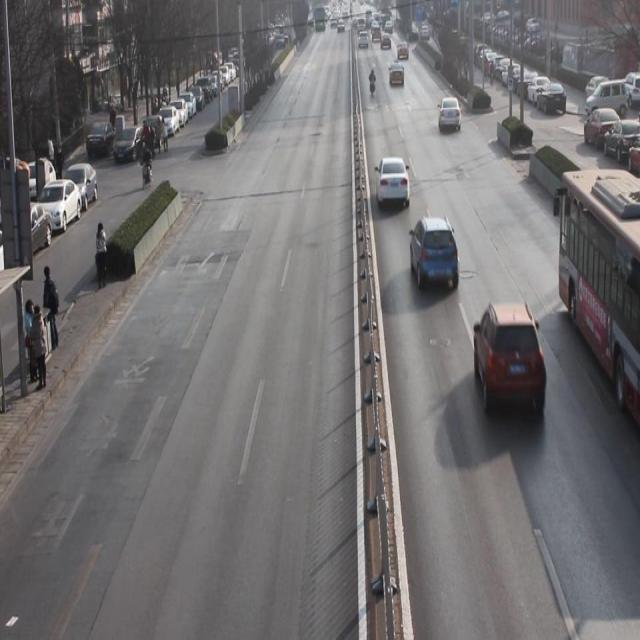car: (473, 300, 547, 425), (412, 216, 462, 296), (375, 154, 412, 210), (438, 97, 462, 139), (389, 64, 406, 90)
van: (556, 167, 640, 417)
